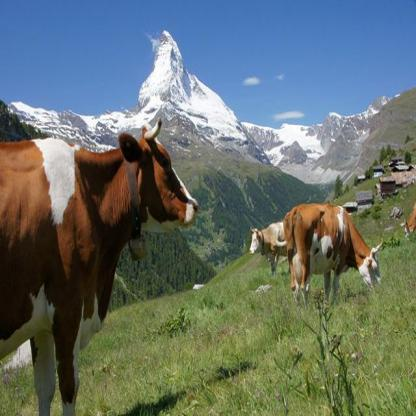cow: (0, 126, 199, 416), (285, 206, 383, 298), (249, 222, 290, 272)
